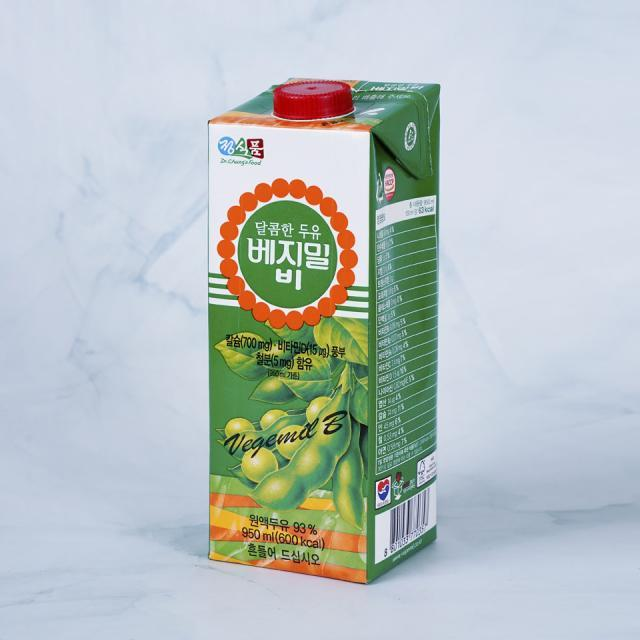Tetra: (202, 57, 458, 600)
